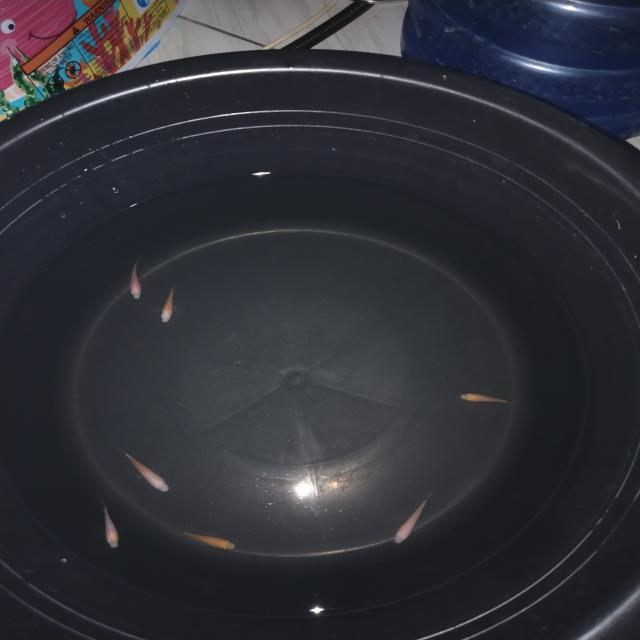nila: (114, 444, 174, 496), (388, 492, 434, 547), (173, 524, 244, 554), (96, 498, 122, 557), (124, 254, 148, 306), (454, 389, 518, 407), (157, 284, 180, 326)
